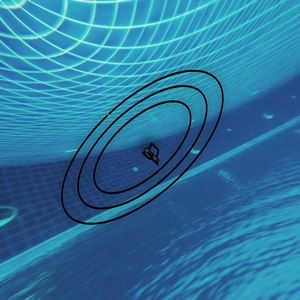circle: (58, 52, 235, 250)
